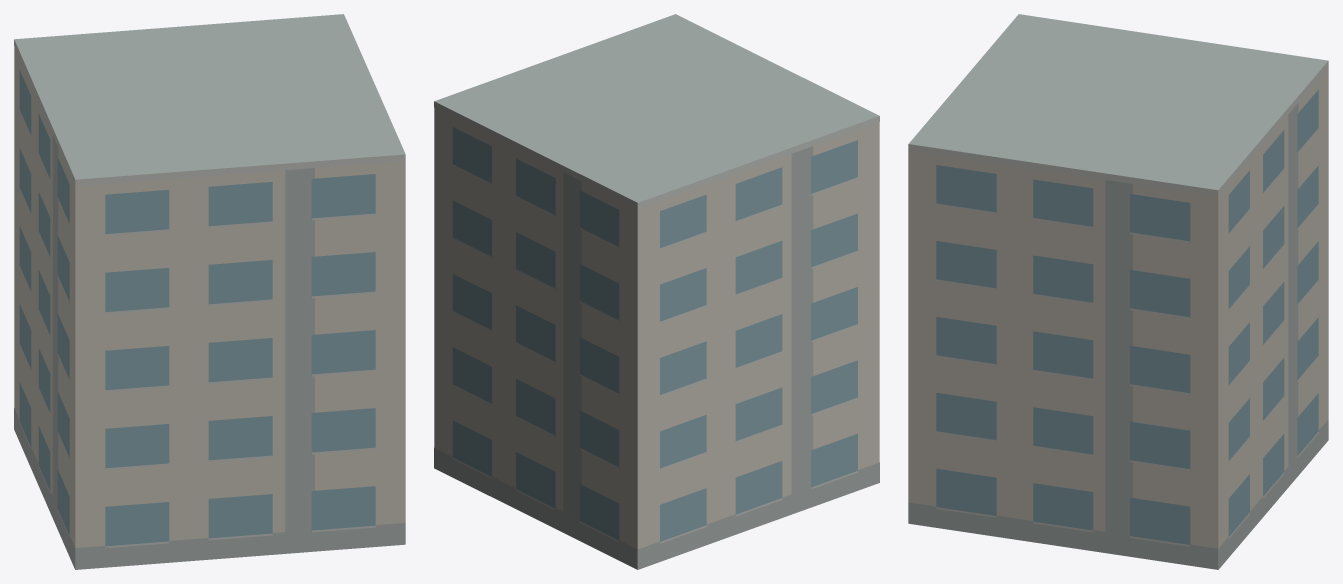
The model's file is survey-upis-32933142.glb.
3 views of the same model, side by side, from view 1: azimuth 30°, elevation 25°; view 2: azimuth 150°, elevation 25°; view 3: azimuth 270°, elevation 25° (orthographic). The views are drawn at different scales.
Parts seen in each view (by area): view 1: survey-upis-32933142.tmp; view 2: survey-upis-32933142.tmp; view 3: survey-upis-32933142.tmp.
Part boxes in pixels (left/top/right/bottom): survey-upis-32933142.tmp: left=14, top=14, right=405, bottom=569; survey-upis-32933142.tmp: left=434, top=14, right=879, bottom=569; survey-upis-32933142.tmp: left=908, top=14, right=1328, bottom=569.
Bounding box in the file's own units: 14.25 × 14.3 × 14.35.
